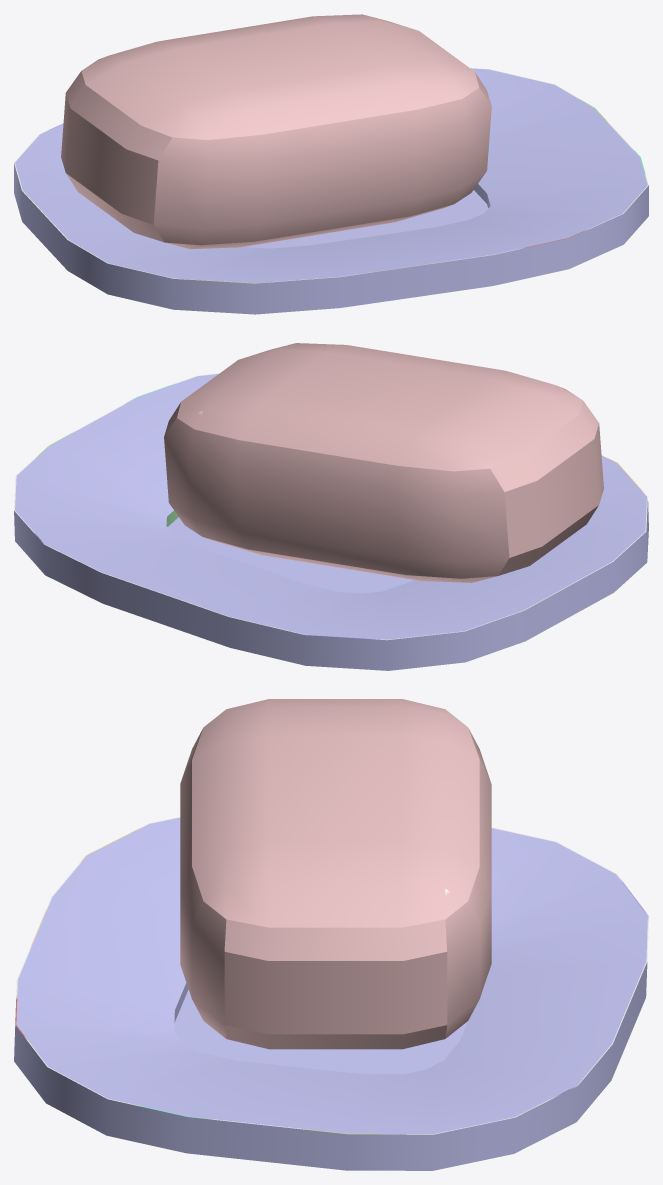
File: Soap1.fbx
The picture shows the model from 3 angles, top to bottom: view 1: azimuth 30°, elevation 25°; view 2: azimuth 150°, elevation 25°; view 3: azimuth 270°, elevation 25°; orthographic projection. The views are drawn at different scales.
Visible parts, largest first — view 1: Savon1; view 2: Savon1; view 3: Savon1.
Boxes of the visible parts, x1=… form: Savon1: x1=14, y1=14, x2=648, y2=314; Savon1: x1=14, y1=343, x2=648, y2=670; Savon1: x1=14, y1=699, x2=648, y2=1170.
Bounding box in the file's own units: 14.74 × 12.48 × 4.63.
